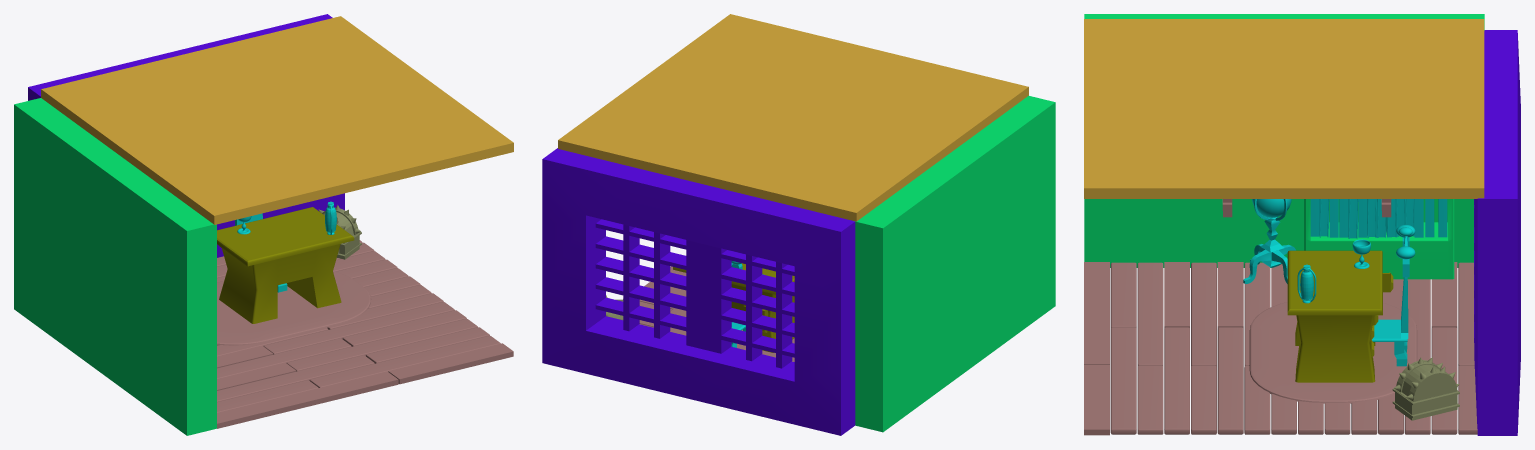
File: Final Maya room.fbx
The picture shows the model from 3 angles, left to right: view 1: azimuth 30°, elevation 25°; view 2: azimuth 150°, elevation 25°; view 3: azimuth 270°, elevation 25°; orthographic projection. The views are drawn at different scales.
Parts seen in each view (by area): view 1: Ceiling, LeftWall1, Ceiling7, polySurface78, pCube14, polySurface100; view 2: pCube14, Ceiling, LeftWall1, Ceiling7, polySurface78; view 3: Ceiling, Ceiling7, LeftWall1, pCube14, polySurface78, polySurface100, polySurface43, polySurface19.
Boxes of the visible parts, <box> form: Ceiling: <box>41,16,513,224</box>; LeftWall1: <box>14,98,216,435</box>; Ceiling7: <box>217,240,513,428</box>; polySurface78: <box>217,207,354,323</box>; pCube14: <box>28,14,344,257</box>; polySurface100: <box>235,201,336,292</box>; pCube14: <box>542,148,855,435</box>; Ceiling: <box>558,14,1028,221</box>; LeftWall1: <box>855,95,1055,432</box>; Ceiling7: <box>639,266,794,361</box>; polySurface78: <box>673,263,794,352</box>; Ceiling: <box>1084,19,1484,198</box>; Ceiling7: <box>1084,199,1477,435</box>; LeftWall1: <box>1084,14,1484,279</box>; pCube14: <box>1474,30,1520,435</box>; polySurface78: <box>1287,250,1393,382</box>; polySurface100: <box>1243,199,1447,366</box>; polySurface43: <box>1393,357,1459,401</box>; polySurface19: <box>1392,388,1459,420</box>.
Bounding box in the file's own units: 5.47 × 3.41 × 5.46.
